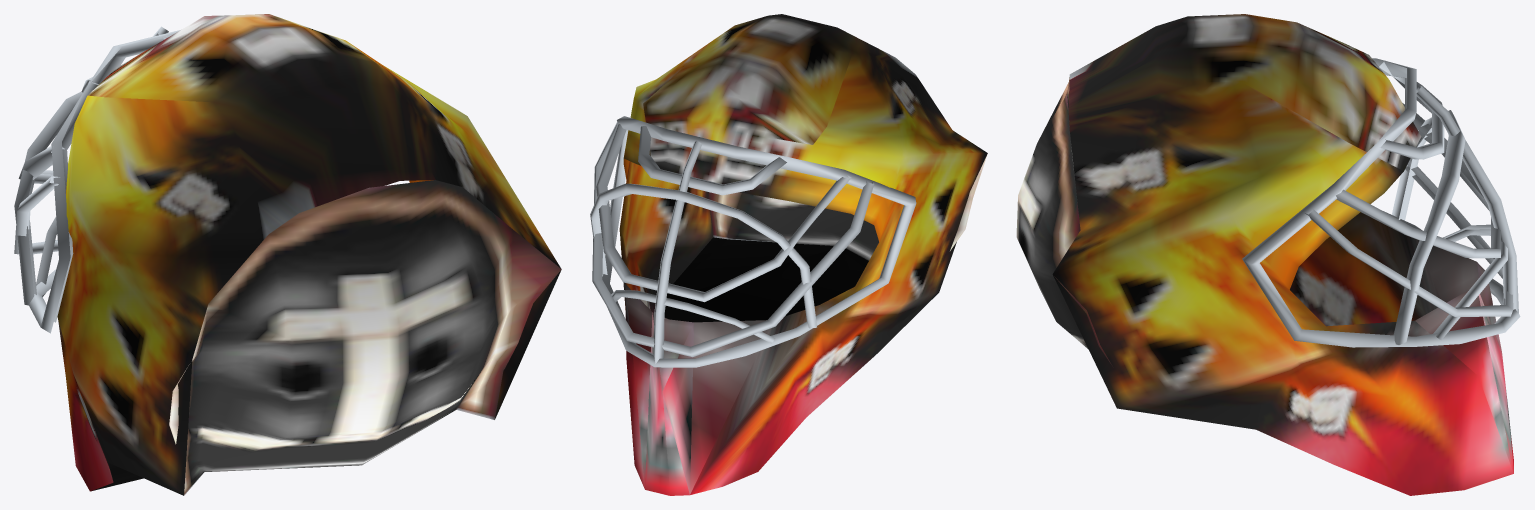
The model's file is nhlhitz.ico.obj.
3 views of the same model, side by side, from view 1: azimuth 30°, elevation 25°; view 2: azimuth 150°, elevation 25°; view 3: azimuth 270°, elevation 25° (orthographic). The views are drawn at different scales.
Bounding box in the file's own units: 3.77 × 4.59 × 4.75.
1 material, 1 textured.
